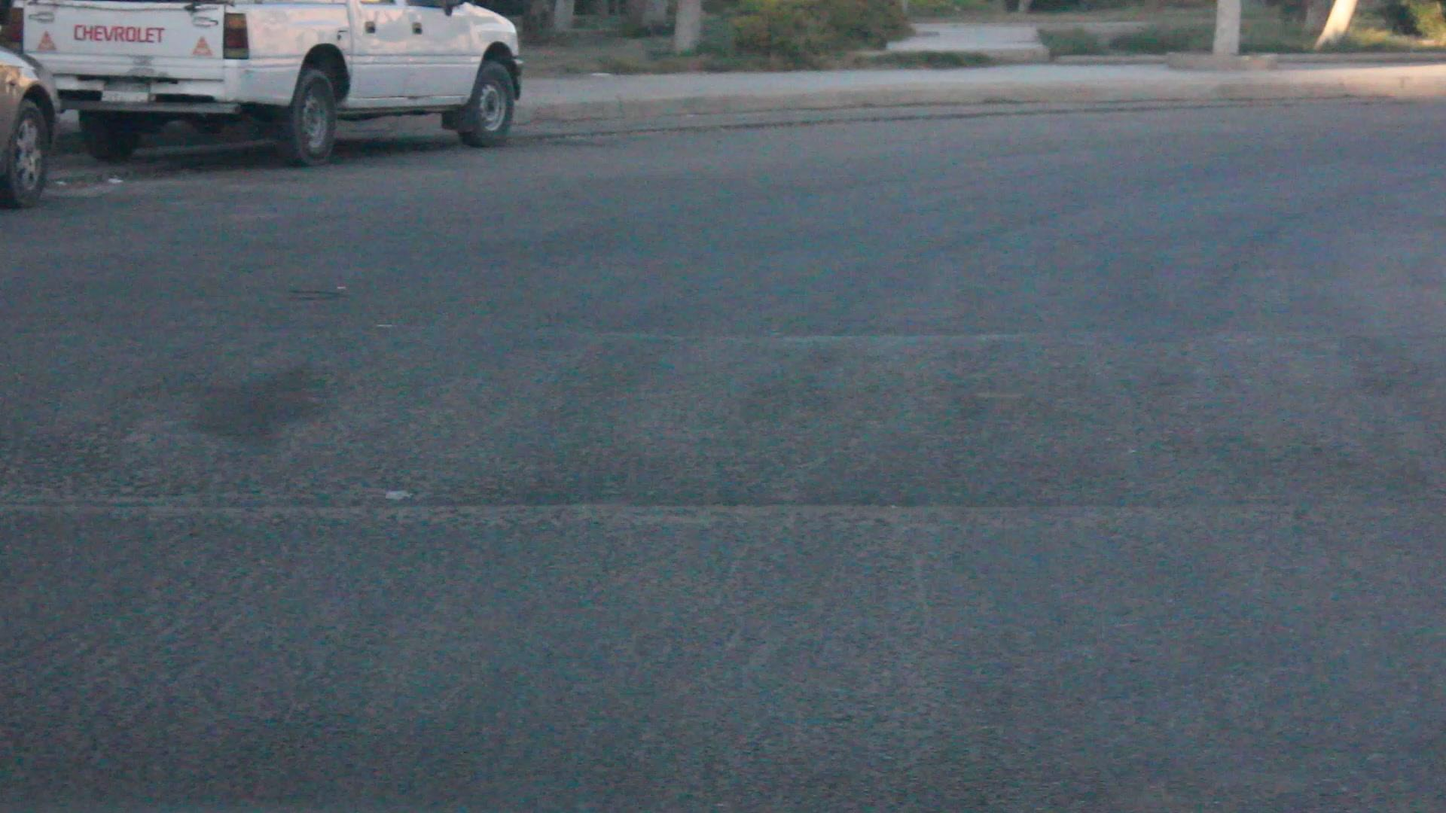Bump: (0, 318, 1446, 518)
